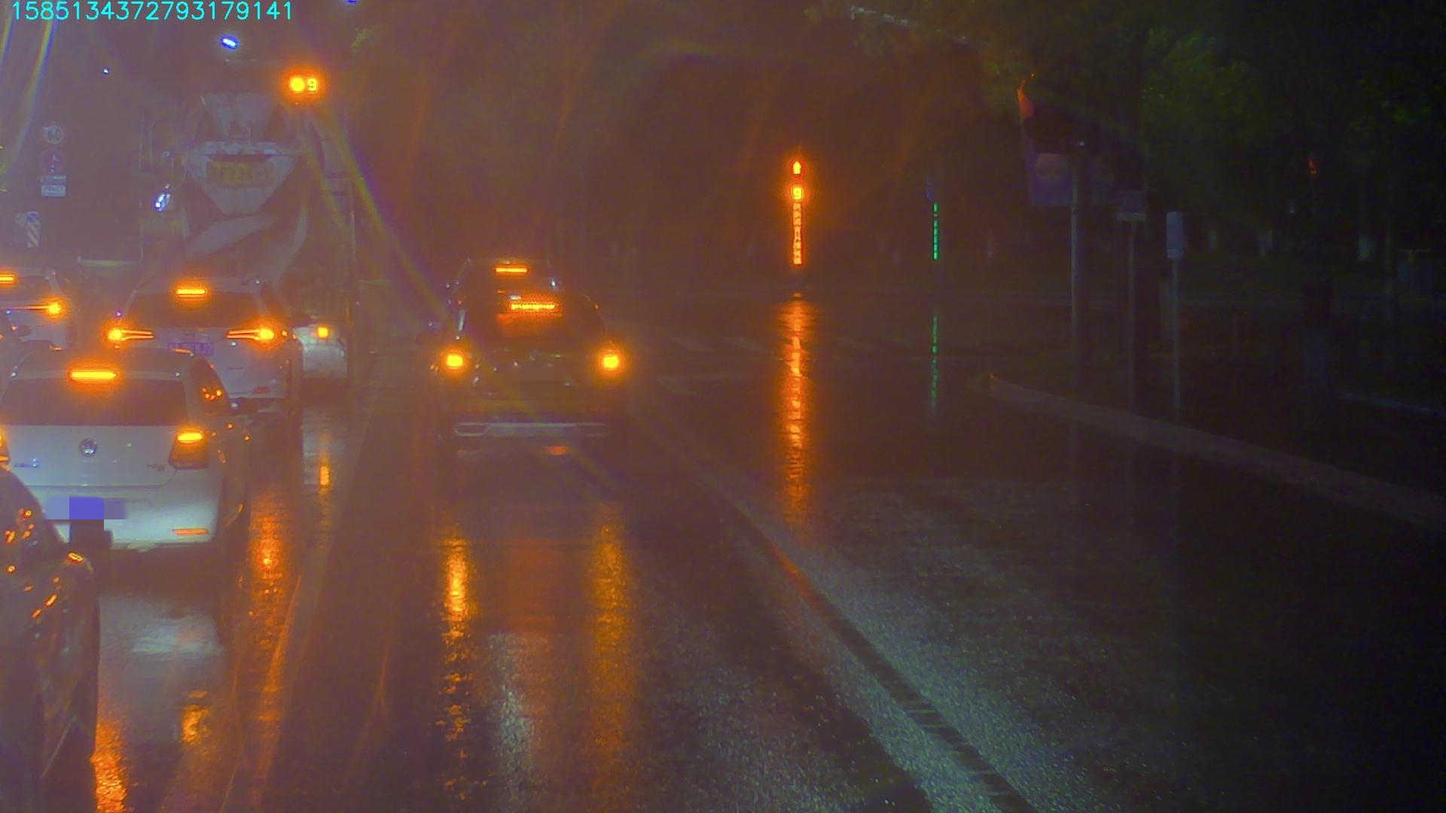red: (285, 73, 323, 99)
